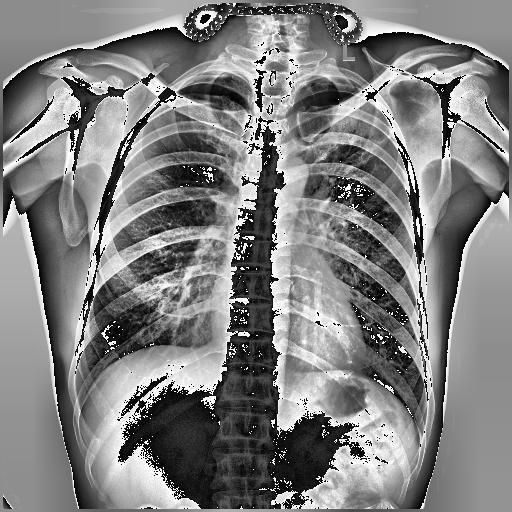11- Pleural thickening: (182, 68, 234, 88)
13- Pulmonary fibrosis: (316, 115, 400, 214), (344, 123, 388, 166), (355, 124, 394, 160), (373, 201, 395, 224), (384, 196, 410, 214)
